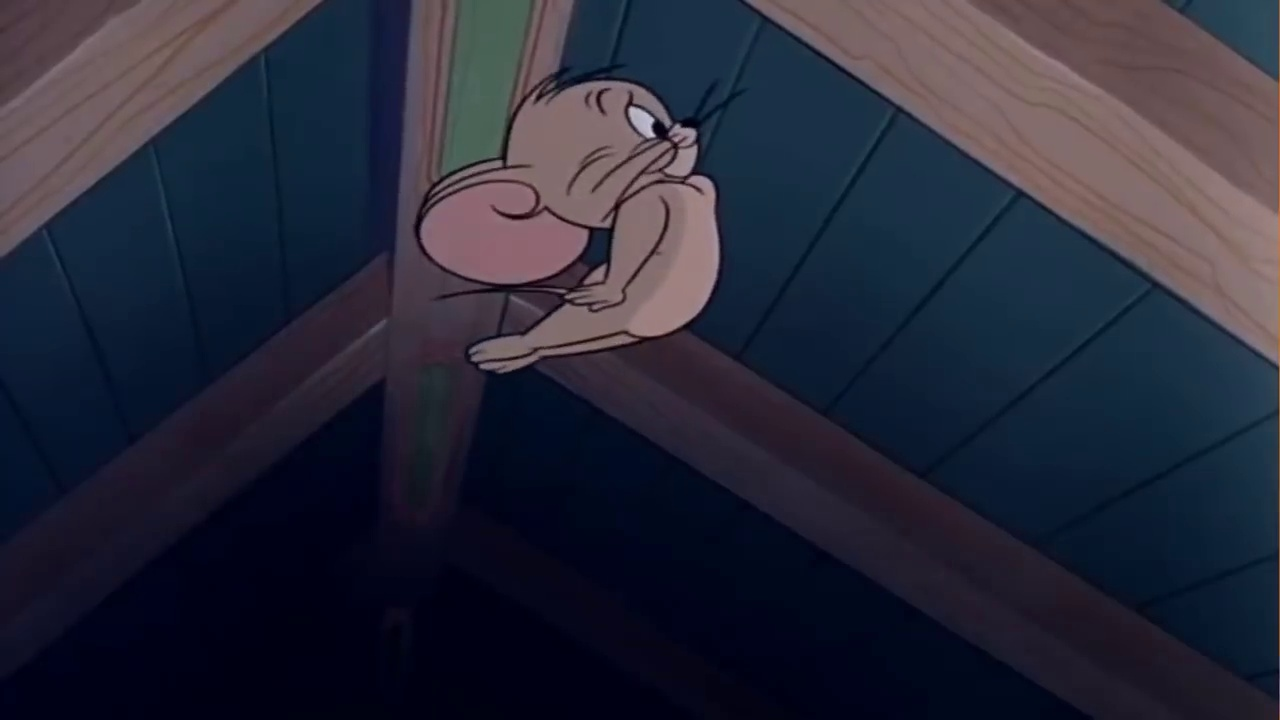face: (581, 82, 707, 184)
